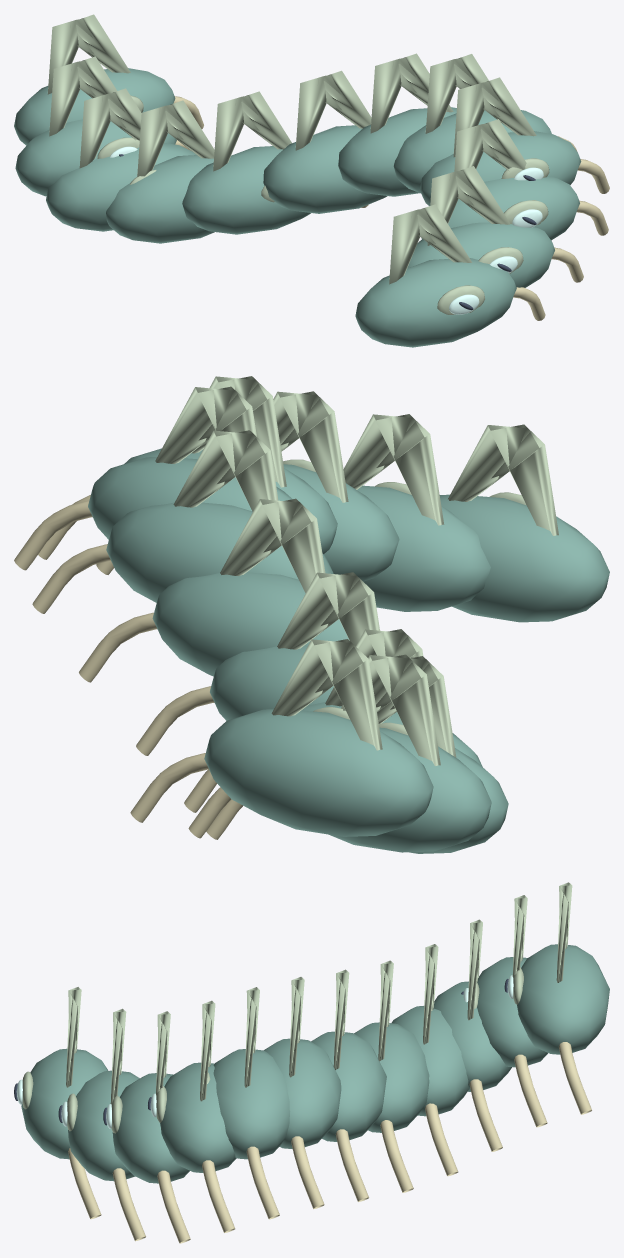
The model's file is bio_ribbon_colony_04_far.glb.
3 views of the same model, one above another, from view 1: azimuth 30°, elevation 25°; view 2: azimuth 150°, elevation 25°; view 3: azimuth 270°, elevation 25° (orthographic). The views are drawn at different scales.
Parts seen in each view (by area): view 1: Overlapping folded ribbon, Overlapping folded ribbon.007, Overlapping folded ribbon.006, Overlapping folded ribbon.008, Overlapping folded ribbon.009, Overlapping folded ribbon.005, Overlapping folded ribbon.001, Raised pleated edge, Overlapping folded ribbon.010, Overlapping folded ribbon.002, Overlapping folded ribbon.011, Overlapping folded ribbon.003 (+16 smaller); view 2: Overlapping folded ribbon.011, Overlapping folded ribbon, Overlapping folded ribbon.006, Overlapping folded ribbon.005, Overlapping folded ribbon.001, Overlapping folded ribbon.010, Raised pleated edge, Raised pleated edge.011, Raised pleated edge.001, Overlapping folded ribbon.004, Raised pleated edge.006, Overlapping folded ribbon.002 (+19 smaller); view 3: Overlapping folded ribbon.011, Overlapping folded ribbon.004, Overlapping folded ribbon.003, Overlapping folded ribbon.005, Overlapping folded ribbon, Overlapping folded ribbon.006, Overlapping folded ribbon.007, Overlapping folded ribbon.002, Overlapping folded ribbon.001, Overlapping folded ribbon.008, Overlapping folded ribbon.010, Overlapping folded ribbon.009 (+24 smaller).
Boxes of the visible parts, left/top/right/bottom form: Overlapping folded ribbon: left=355, top=258, right=516, bottom=347; Overlapping folded ribbon.007: left=182, top=146, right=310, bottom=234; Overlapping folded ribbon.006: left=263, top=125, right=387, bottom=213; Overlapping folded ribbon.008: left=106, top=155, right=214, bottom=243; Overlapping folded ribbon.009: left=46, top=142, right=196, bottom=231; Overlapping folded ribbon.005: left=338, top=107, right=456, bottom=196; Overlapping folded ribbon.001: left=407, top=222, right=554, bottom=287; Raised pleated edge: left=389, top=204, right=484, bottom=314; Overlapping folded ribbon.010: left=15, top=119, right=176, bottom=196; Overlapping folded ribbon.002: left=421, top=177, right=579, bottom=240; Overlapping folded ribbon.011: left=14, top=68, right=175, bottom=145; Overlapping folded ribbon.003: left=420, top=131, right=581, bottom=205; Overlapping folded ribbon.011: left=204, top=709, right=433, bottom=836; Overlapping folded ribbon: left=439, top=494, right=609, bottom=622; Overlapping folded ribbon.006: left=152, top=572, right=349, bottom=676; Overlapping folded ribbon.005: left=106, top=502, right=333, bottom=602; Overlapping folded ribbon.001: left=357, top=485, right=490, bottom=611; Overlapping folded ribbon.010: left=329, top=727, right=491, bottom=852; Raised pleated edge: left=448, top=424, right=558, bottom=535; Raised pleated edge.011: left=271, top=639, right=382, bottom=750; Raised pleated edge.001: left=343, top=414, right=444, bottom=525; Overlapping folded ribbon.004: left=88, top=457, right=292, bottom=539; Raised pleated edge.006: left=220, top=498, right=325, bottom=593; Overlapping folded ribbon.002: left=283, top=464, right=399, bottom=581; Overlapping folded ribbon.011: left=517, top=944, right=609, bottom=1054; Overlapping folded ribbon.004: left=213, top=1049, right=290, bottom=1159; Overlapping folded ribbon.003: left=160, top=1062, right=236, bottom=1172; Overlapping folded ribbon.005: left=264, top=1038, right=341, bottom=1148; Overlapping folded ribbon: left=21, top=1048, right=108, bottom=1159; Overlapping folded ribbon.006: left=311, top=1031, right=386, bottom=1141; Overlapping folded ribbon.007: left=354, top=1022, right=429, bottom=1132; Overlapping folded ribbon.002: left=112, top=1073, right=189, bottom=1183; Overlapping folded ribbon.001: left=68, top=1070, right=139, bottom=1181; Overlapping folded ribbon.008: left=391, top=1006, right=469, bottom=1116; Overlapping folded ribbon.010: left=477, top=957, right=547, bottom=1067; Overlapping folded ribbon.009: left=433, top=981, right=511, bottom=1091.
Bounding box in the file's own units: 2.81 × 1.25 × 3.04.
